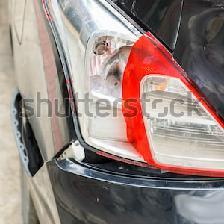broken_part: (94, 35, 178, 148)
dent: (187, 11, 216, 41), (12, 135, 42, 158)
